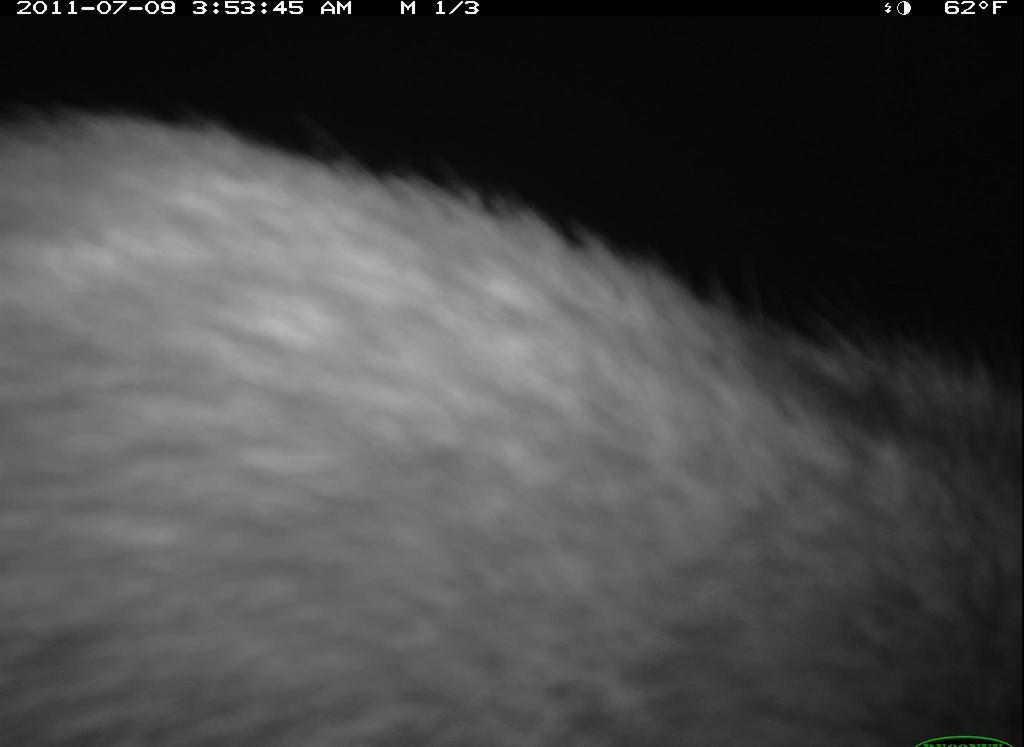raccoon: (4, 73, 1023, 747)
